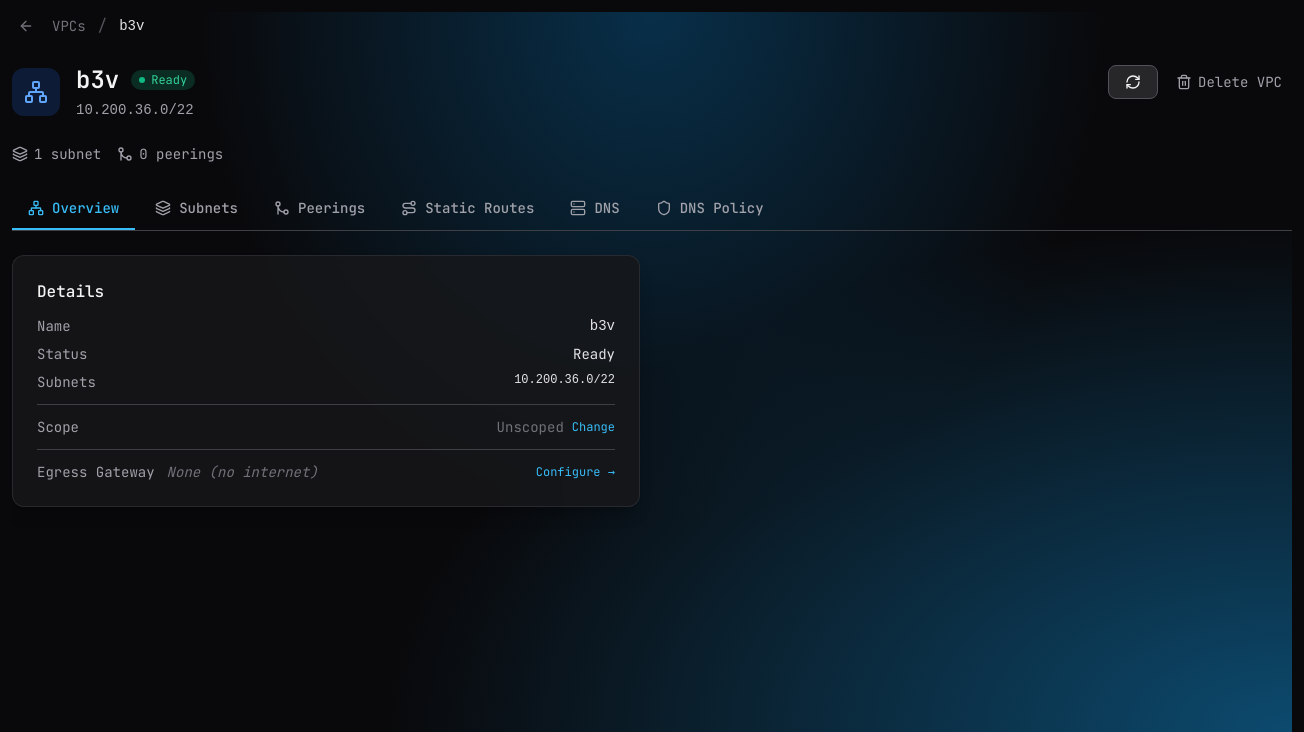
Test: the two peerings that would build cleanly and carry nothing › refuses a remote with no subnet
Click the button "Peerings" at (320, 209), box [258,188,381,230]
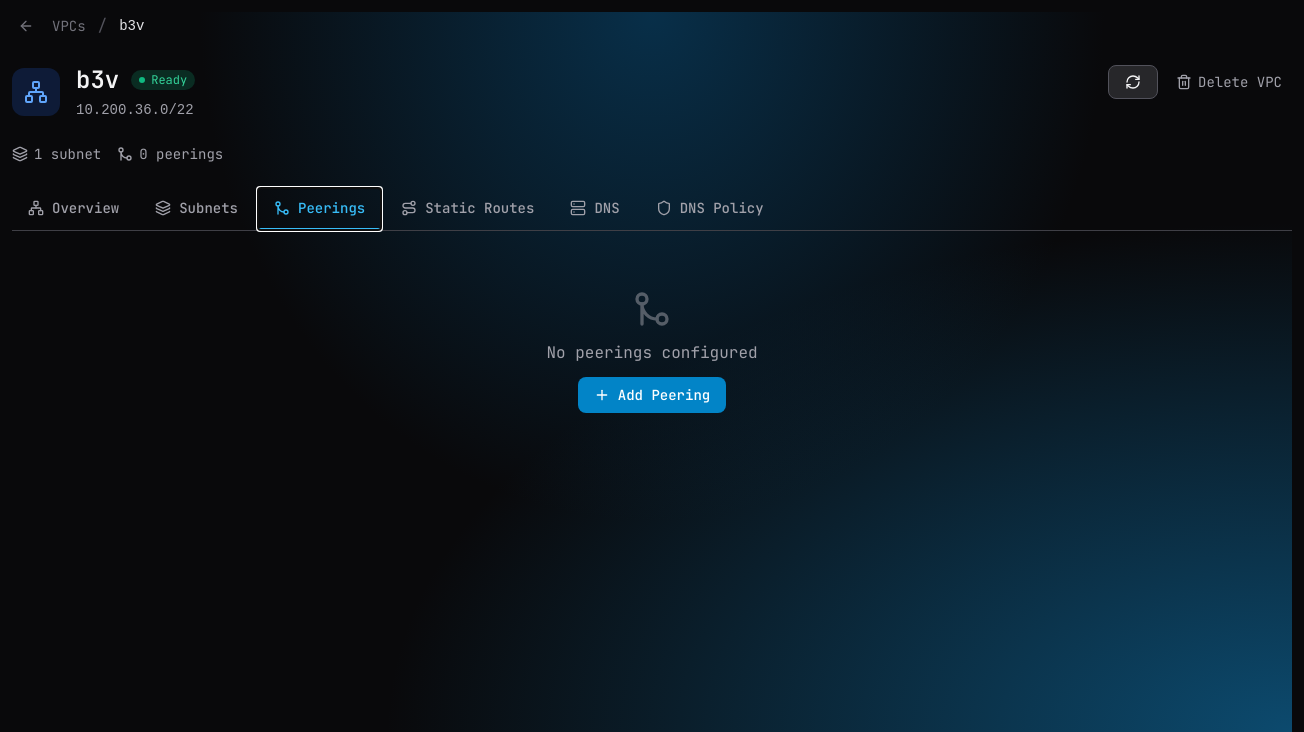
Click the button "Add Peering" at (652, 395), box [578,377,726,413]
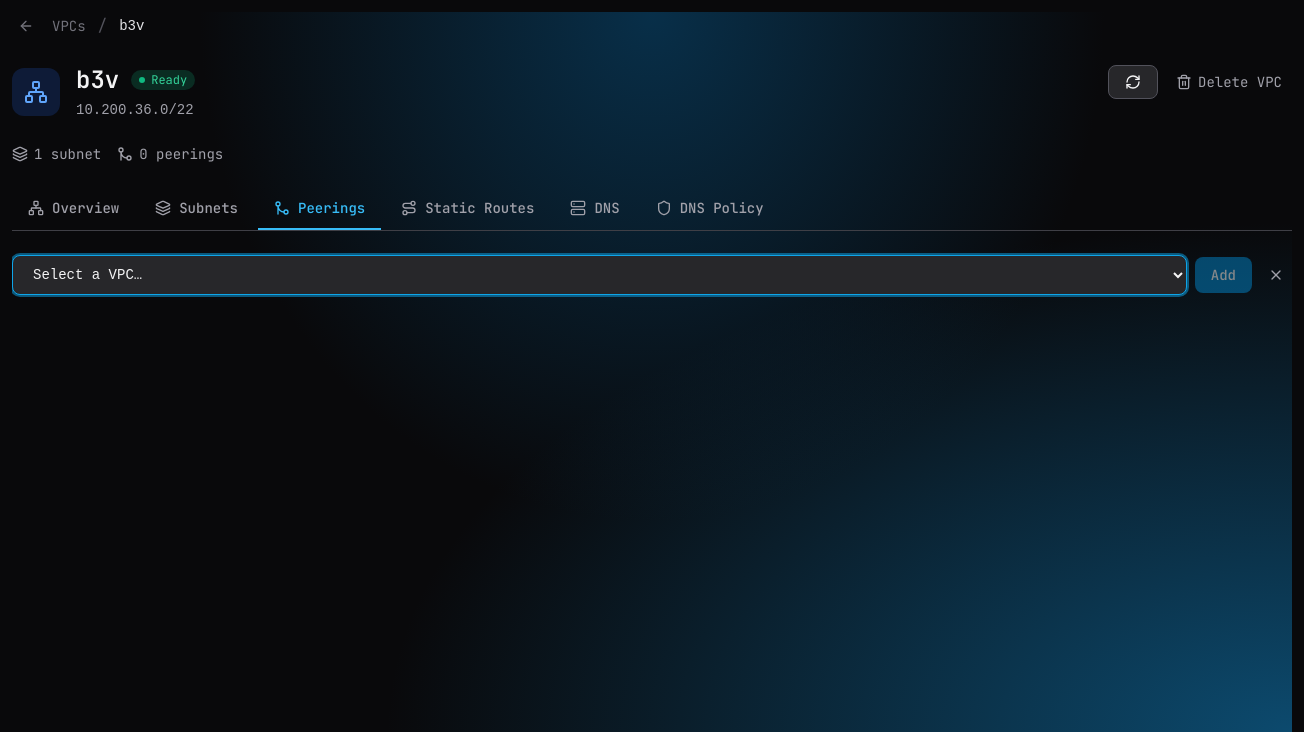
Select "empty — no subnet yet" in the dropdown at (599, 275), box [12,255,1187,295]
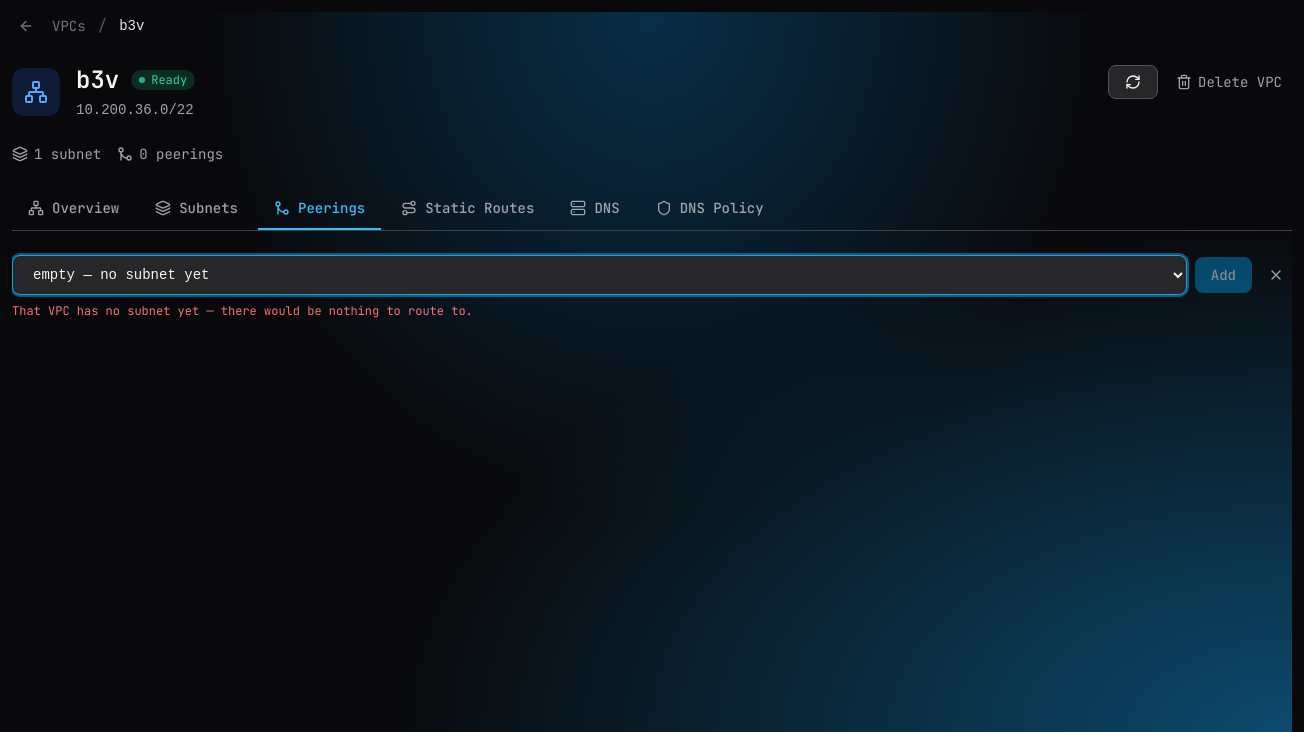
Expected: the button "Add" is disabled, [1195,257,1252,293]
Expected: the text "nothing to route to" is shown, [12,303,473,319]
